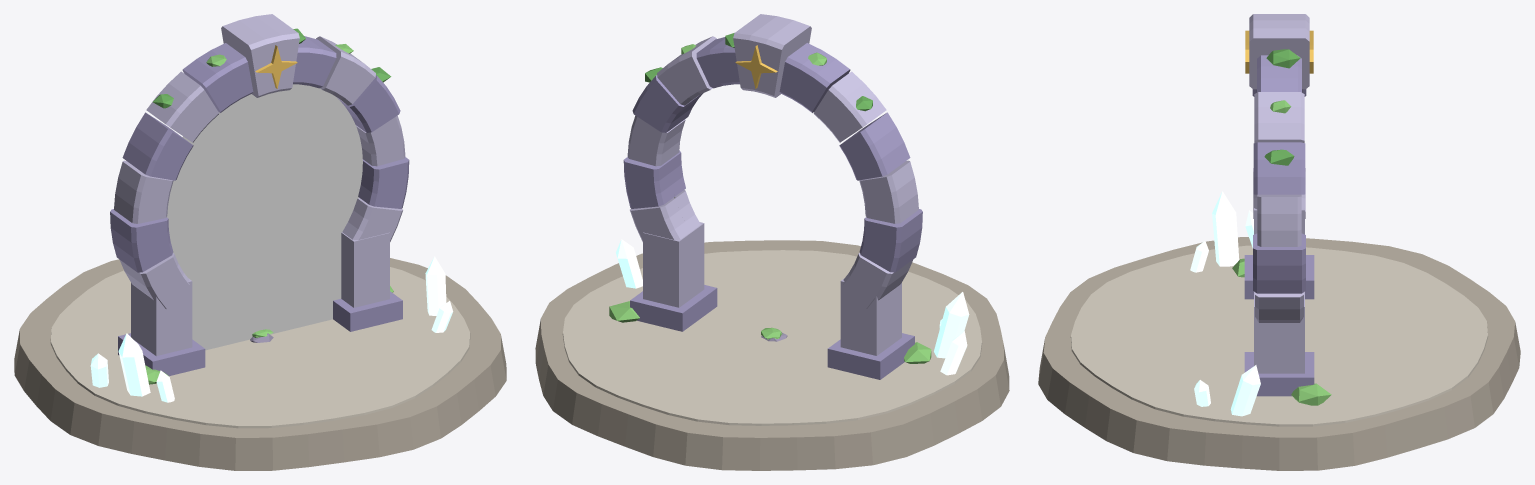
Rendered from portal.glb.
3 renders of one model, left to right at view 1: azimuth 30°, elevation 25°; view 2: azimuth 150°, elevation 25°; view 3: azimuth 270°, elevation 25°, orthographic.
Parts seen in each view (by area): view 1: Gate, Veil; view 2: Gate; view 3: Gate.
Boxes of the visible parts, x1,y1,x2,y2 form: Gate: [14, 14, 506, 470]; Veil: [167, 84, 362, 350]; Gate: [535, 14, 1009, 470]; Gate: [1038, 14, 1520, 470].
Bounding box in the file's own units: 6.15 × 4.79 × 6.09.
